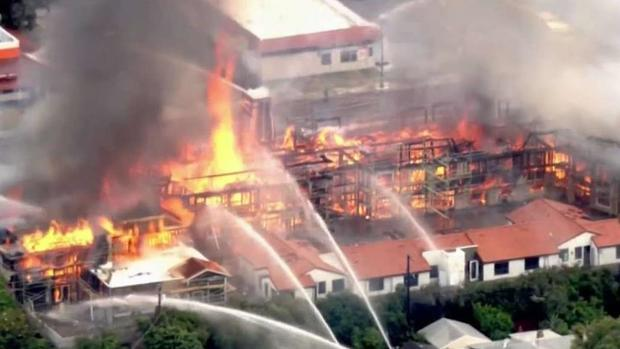fire: (198, 93, 244, 196), (19, 218, 123, 256)
smoke: (372, 3, 614, 124), (33, 17, 154, 191), (264, 54, 369, 126)
